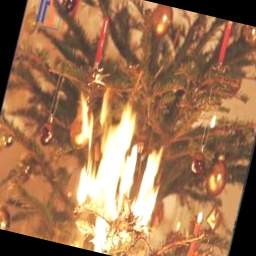fire: (55, 85, 180, 224)
